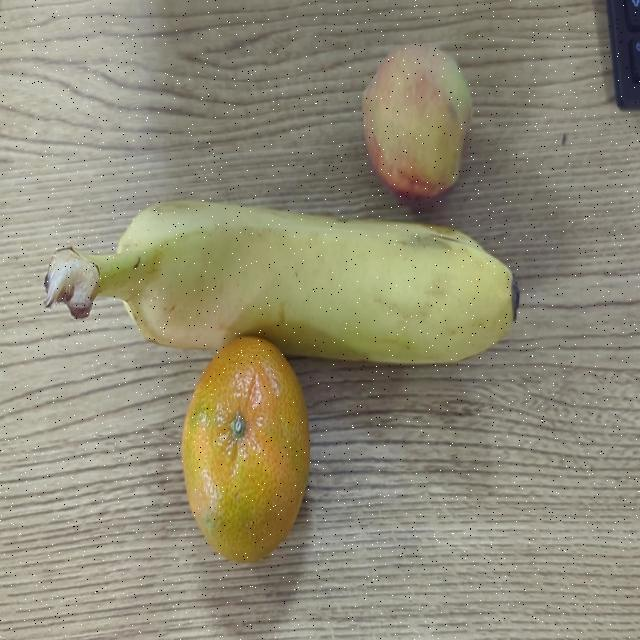Jeruk Mandarin: (180, 336, 312, 559)
Persik: (352, 32, 478, 180)
Pisang: (38, 174, 530, 376)
